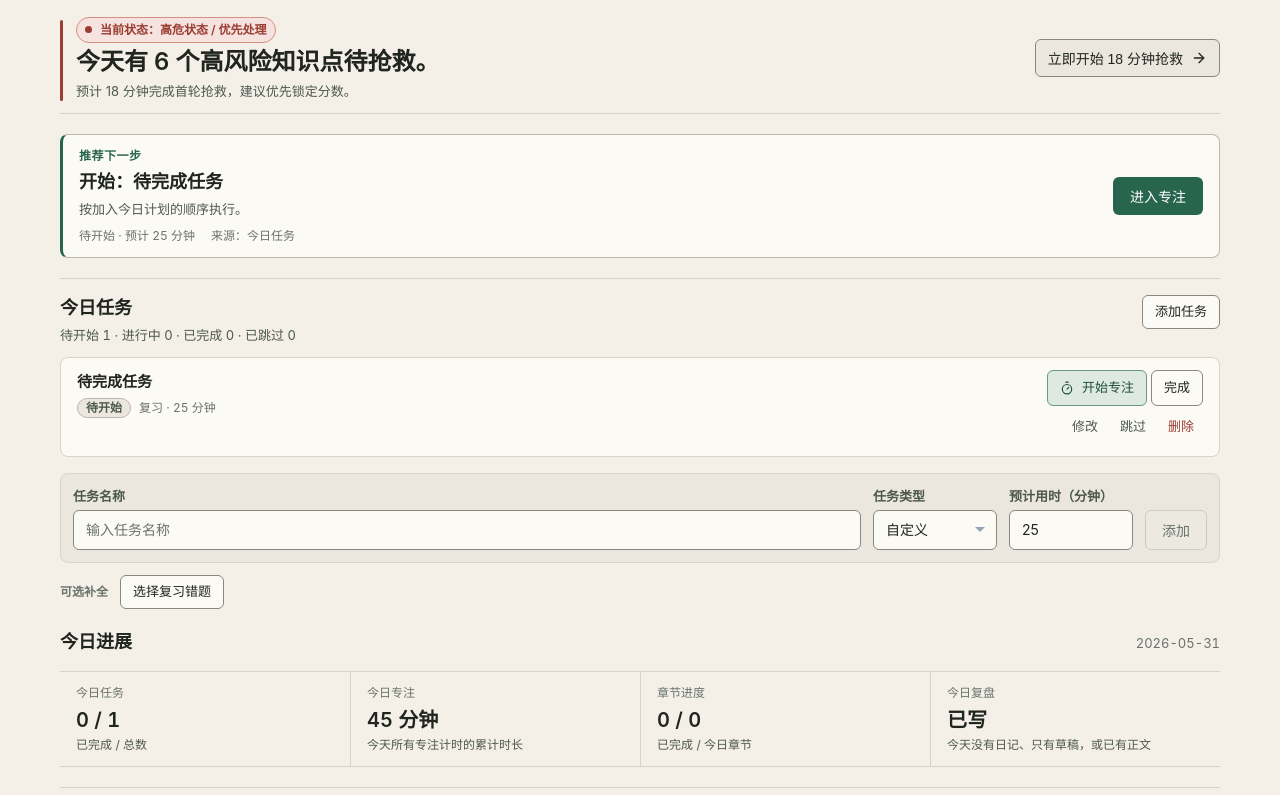
Test case: HomeDashboard Component - Commander Engine › refreshes the overview after completing a task
Expected: the element with test id "overview-tasks" shows "0 / 1", [76,684,147,752]
Click the button with test id "task-complete-31": (1177, 388) [1151,370,1203,406]
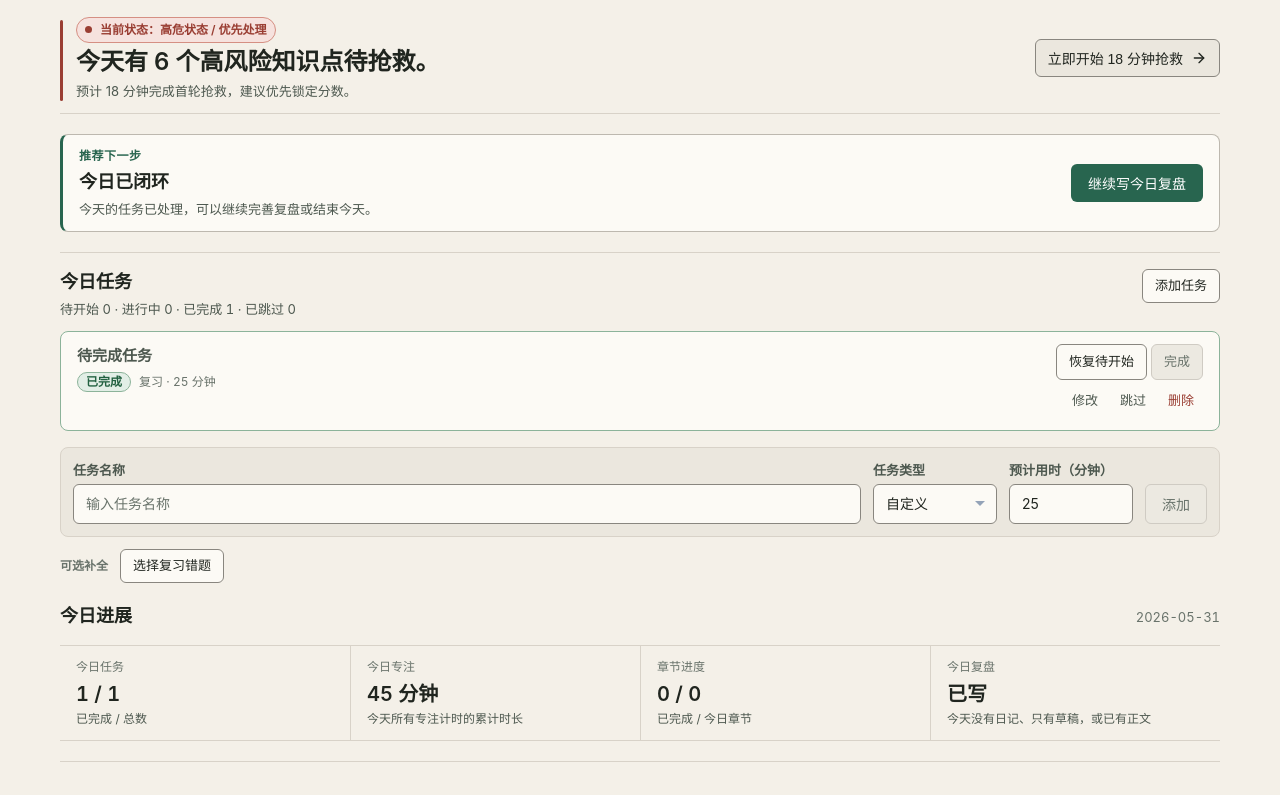
Now the element with test id "overview-tasks" shows "1 / 1", box [76,658,147,726]
